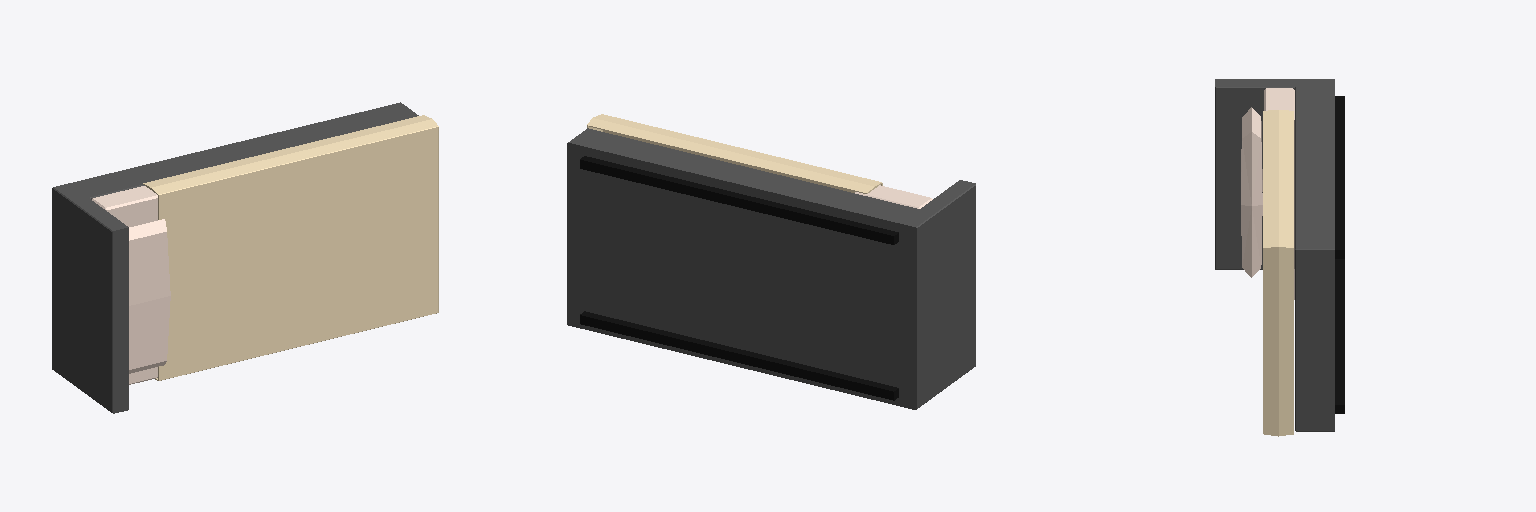
3 renders of one model, left to right at view 1: azimuth 30°, elevation 25°; view 2: azimuth 150°, elevation 25°; view 3: azimuth 270°, elevation 25°, orthographic.
Visible parts, largest first — view 1: Bed.002_Cube_Cube.002; view 2: Bed.002_Cube_Cube.002; view 3: Bed.002_Cube_Cube.002.
Boxes of the visible parts, <box> form: Bed.002_Cube_Cube.002: <box>52,102,438,413</box>; Bed.002_Cube_Cube.002: <box>567,114,975,409</box>; Bed.002_Cube_Cube.002: <box>1215,79,1344,436</box>.
Bounding box in the file's own units: 2.02 × 1.04 × 0.645.
1 materials, 1 textured.